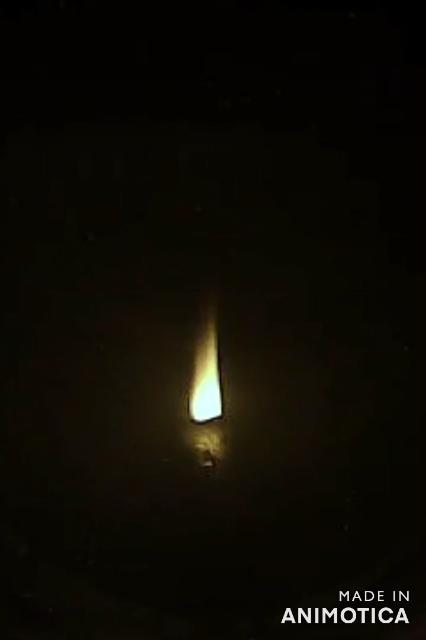burner flame: (186, 310, 226, 426)
